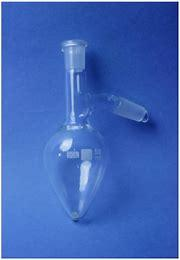Pear shaped flask: (36, 28, 150, 218)
